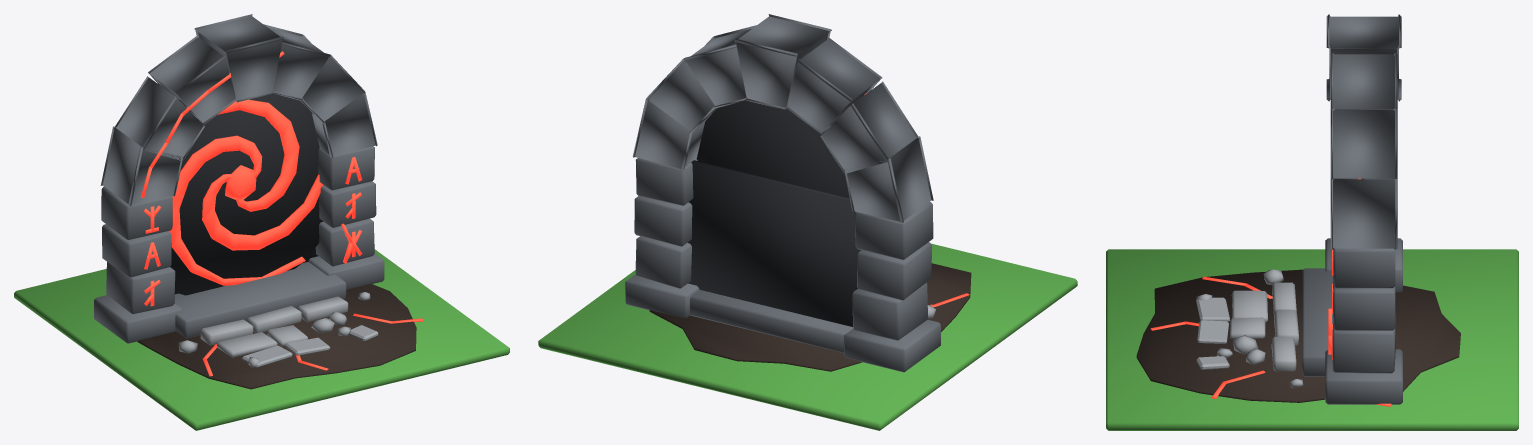
File: enemy-spawn-portal.glb
The picture shows the model from 3 angles, left to right: view 1: azimuth 30°, elevation 25°; view 2: azimuth 150°, elevation 25°; view 3: azimuth 270°, elevation 25°; orthographic projection. The views are drawn at different scales.
Visible parts, largest first — view 1: Arch, Ground, Vortex, Steps, Runes; view 2: Arch, Ground, VortexBacking, Vortex; view 3: Ground, Arch, Steps, Runes.
Boxes of the visible parts, x1,y1,x2,y2 form: Arch: (94,14,384,343); Ground: (14,249,509,430); Vortex: (168,93,323,295); Steps: (178,292,378,367); Runes: (106,51,422,376); Arch: (625,14,940,372); Ground: (538,243,1077,430); VortexBacking: (687,160,861,326); Vortex: (696,100,849,197); Ground: (1106,249,1518,430); Arch: (1302,14,1402,404); Steps: (1196,269,1303,387); Runes: (1150,249,1391,406).
Bounding box in the file's own units: 16 × 13.46 × 16.
